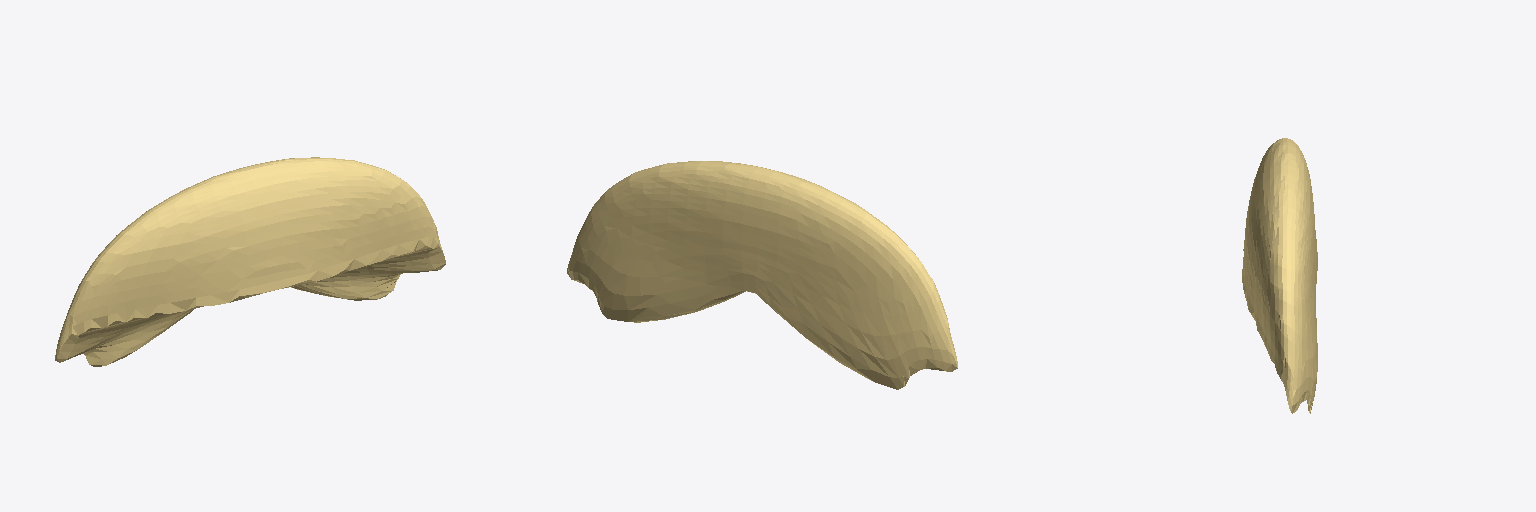
The model's file is stache3.obj.
3 renders of one model, left to right at view 1: azimuth 30°, elevation 25°; view 2: azimuth 150°, elevation 25°; view 3: azimuth 270°, elevation 25°, orthographic.
Visible parts, largest first — view 1: stache1_Sphere; view 2: stache1_Sphere; view 3: stache1_Sphere.
Boxes of the visible parts, box(x1,y1,x2,y2) form: stache1_Sphere: box(55, 157, 445, 366); stache1_Sphere: box(567, 161, 957, 389); stache1_Sphere: box(1242, 138, 1317, 413).
Bounding box in the file's own units: 1.55 × 0.6641 × 0.2608.